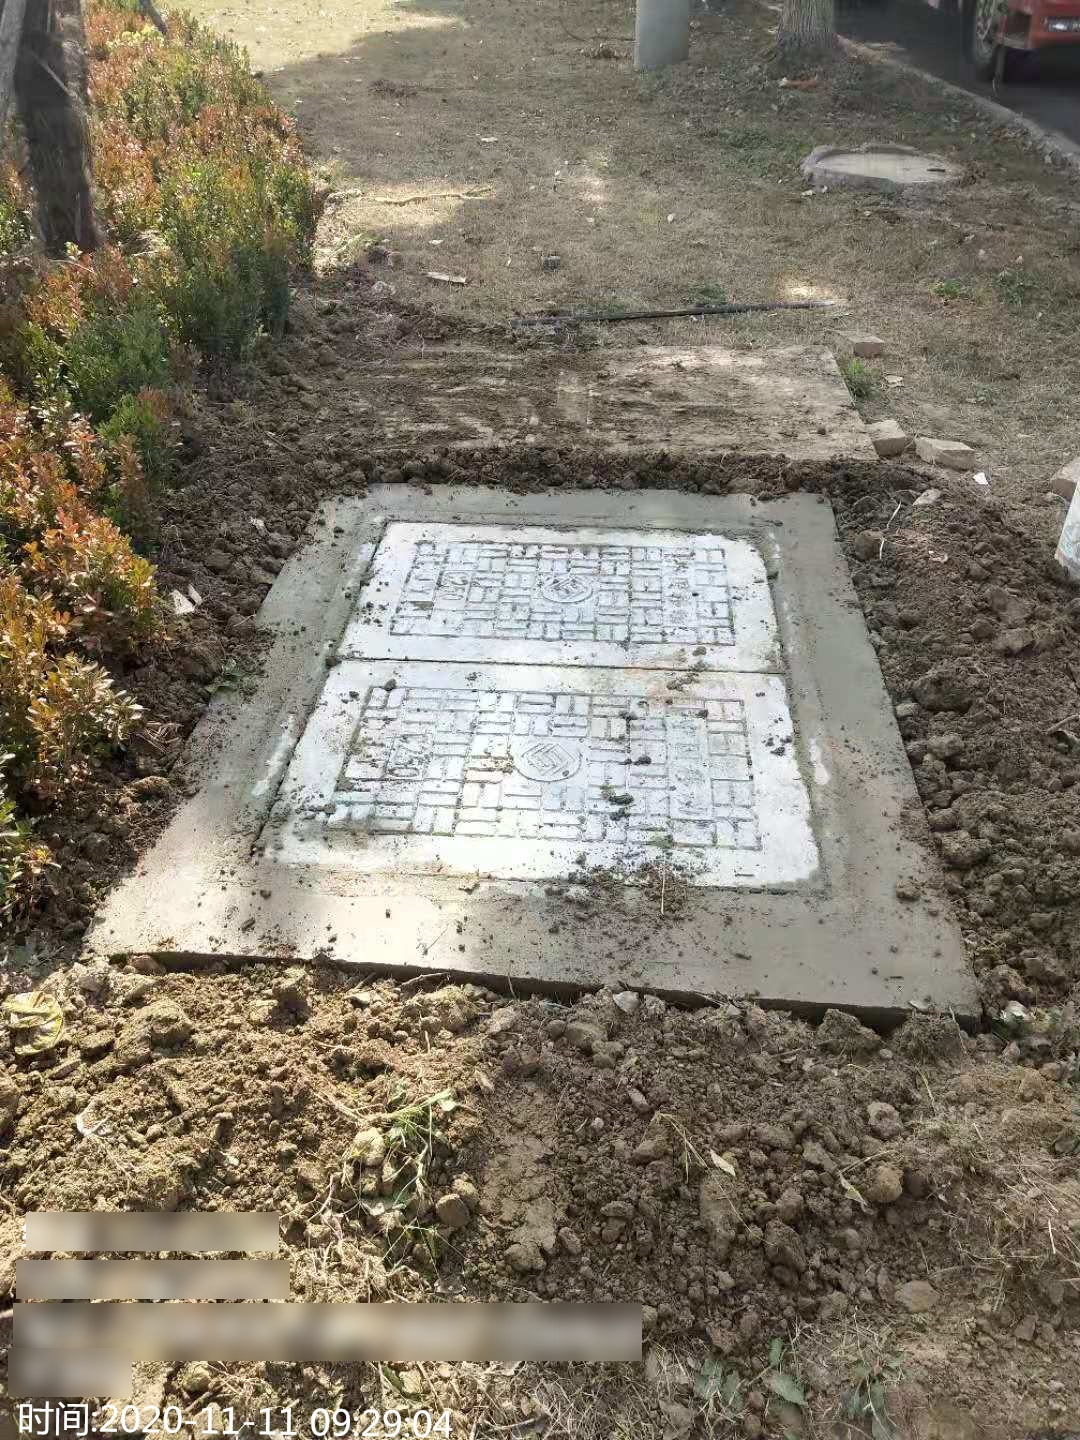well: (277, 517, 847, 897)
